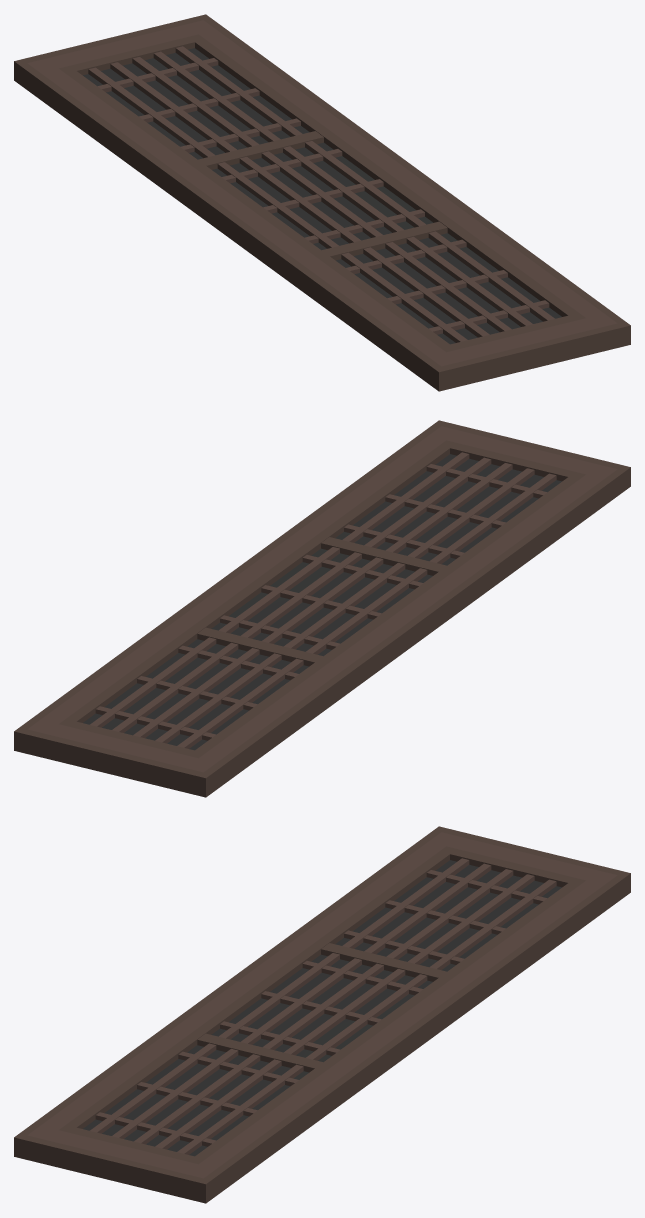
Rendered from Grate_2_C.glb.
3 views of the same model, one above another, from view 1: azimuth 30°, elevation 25°; view 2: azimuth 150°, elevation 25°; view 3: azimuth 330°, elevation 25° (orthographic).
Parts seen in each view (by area): view 1: Grate_2_C; view 2: Grate_2_C; view 3: Grate_2_C.
Boxes of the visible parts, <box> form: Grate_2_C: <box>14,14,630,391</box>; Grate_2_C: <box>14,420,630,797</box>; Grate_2_C: <box>14,826,630,1203</box>.
Size of the model in its own units: 0.379 by 0.0365 by 1.45.
Materials: 2 (2 with a texture image).
